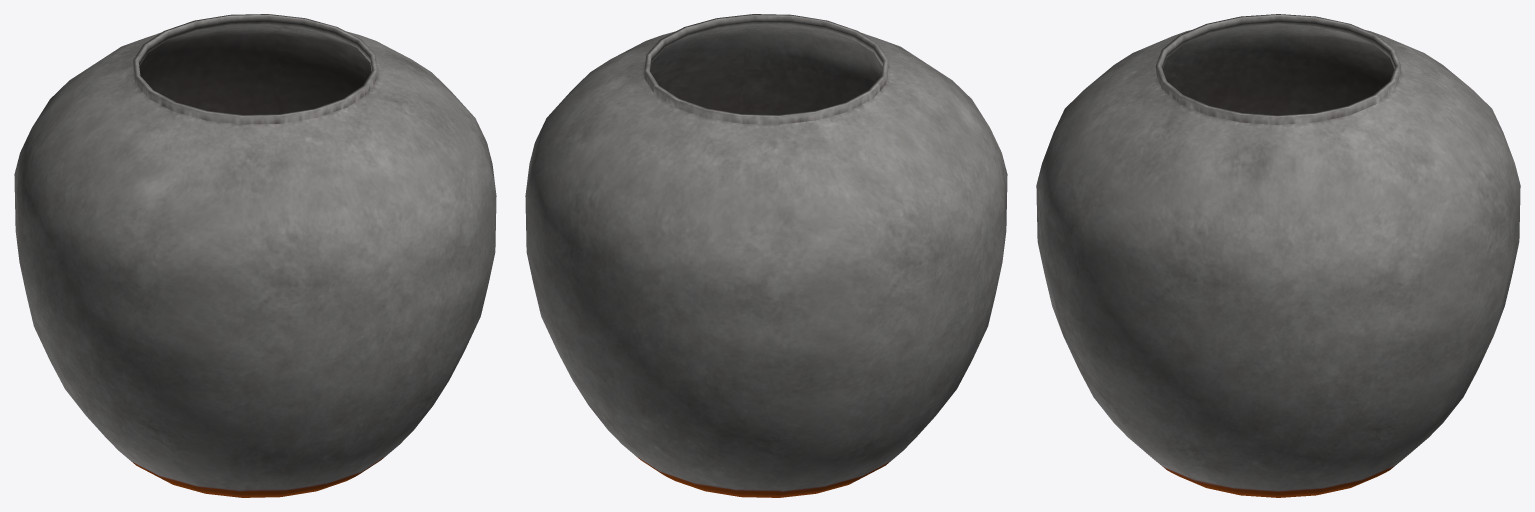
Rendered from fbx_Vaso_1.fbx.
3 views of the same model, side by side, from view 1: azimuth 30°, elevation 25°; view 2: azimuth 150°, elevation 25°; view 3: azimuth 270°, elevation 25° (orthographic).
Visible parts, largest first — view 1: pCylinder15; view 2: pCylinder15; view 3: pCylinder15.
Boxes of the visible parts, left/top/right/bottom form: pCylinder15: left=14, top=14, right=496, bottom=497; pCylinder15: left=525, top=14, right=1007, bottom=497; pCylinder15: left=1036, top=14, right=1520, bottom=497.
Bounding box in the file's own units: 0.15 × 0.13 × 0.15.
